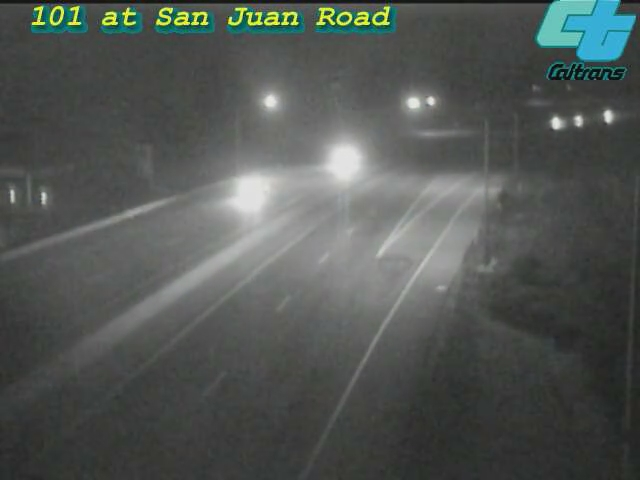vehicle: (205, 152, 285, 232), (300, 120, 380, 200), (582, 93, 632, 143), (554, 96, 604, 146), (532, 99, 582, 149)
